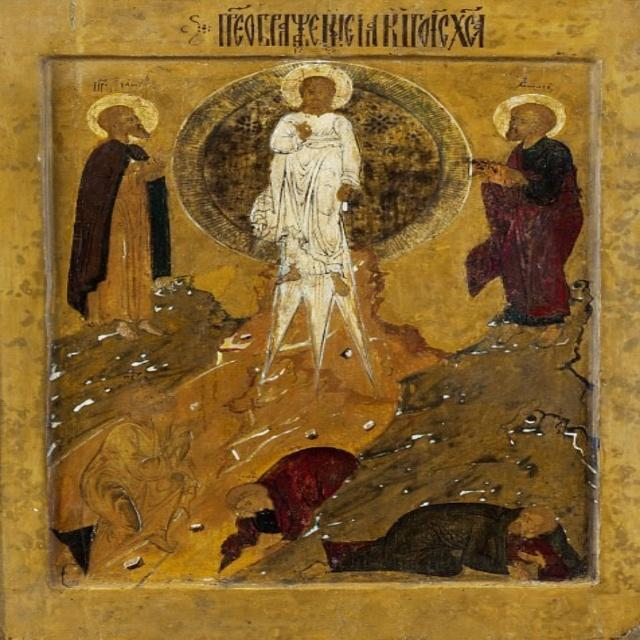aura: (82, 91, 166, 146), (492, 92, 569, 144), (282, 64, 355, 113)
christ: (252, 59, 397, 385)
person: (206, 438, 368, 563), (324, 500, 581, 575)
saint: (63, 83, 187, 346), (473, 91, 581, 330)
